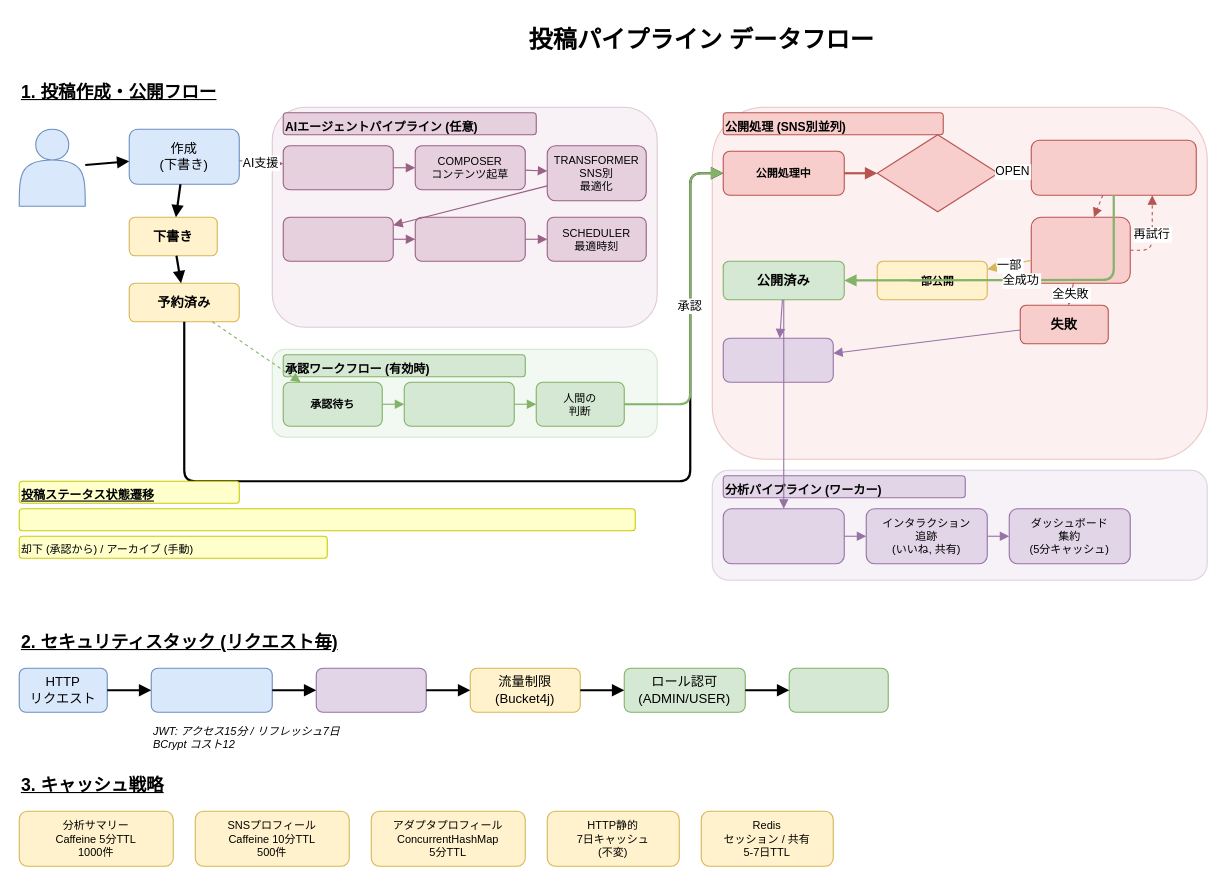
Some shapes in this 1227 by 886 pixel diagram are drawn without their labels. Here are the shapes that lost their labels. From the top down, the box of each, then its label:
(18, 128, 85, 206): ブラウザ (HTMX)
(282, 145, 393, 190): ANALYST トレンド分析
(876, 134, 998, 212): サーキット ブレーカー 確認
(1030, 139, 1196, 195): SNS投稿 (プラットフォーム別並列)
(282, 216, 393, 261): SENTINEL リスク検査
(414, 216, 525, 261): COMPLIANCE 法令検査
(1030, 216, 1130, 283): リトライ 最大2回 指数バックオフ
(722, 337, 833, 382): 通知 (DB + プッシュ)
(403, 381, 514, 426): AIレビュー (SENTINEL + COMPLIANCE)
(18, 508, 635, 531): 下書き → 予約済み → 承認待ち → 公開処理中 → 公開済み / 一部公開 / 失敗
(722, 508, 844, 564): インプレッション スナップショット 収集
(150, 667, 272, 712): 認証フィルター (JWT検証)
(315, 667, 426, 712): 監査ログ フィルター
(788, 667, 888, 712): 業務 ロジック
